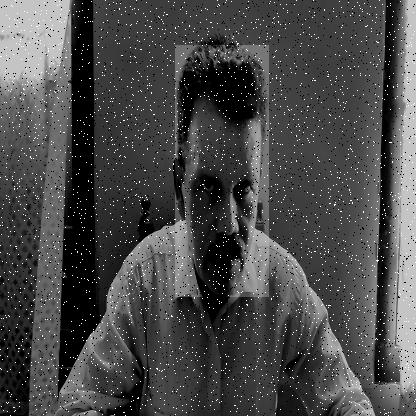Normal: (175, 45, 269, 297)
